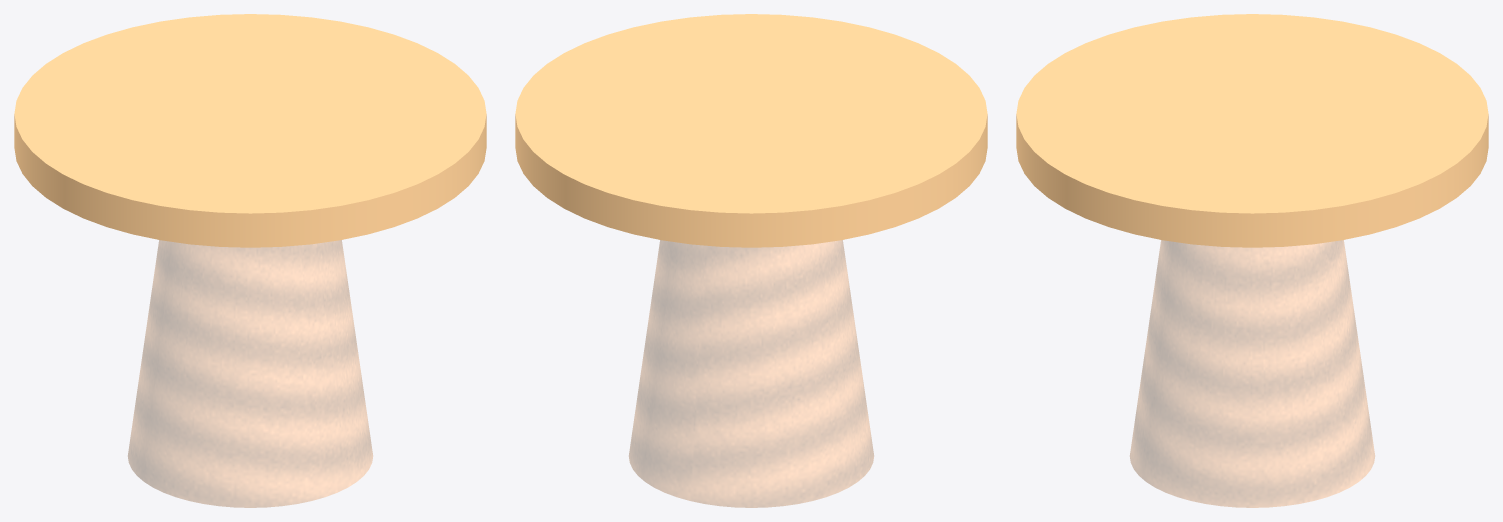
The model's file is ref06_25.glb.
3 views of the same model, side by side, from view 1: azimuth 30°, elevation 25°; view 2: azimuth 150°, elevation 25°; view 3: azimuth 270°, elevation 25° (orthographic).
Visible parts, largest first — view 1: ref06_25; view 2: ref06_25; view 3: ref06_25.
Boxes of the visible parts, x1,y1,x2,y2 form: ref06_25: (14,14,486,507); ref06_25: (515,14,987,507); ref06_25: (1016,14,1488,507).
Size of the model in its own units: 0.5 by 0.4 by 0.5.
Materials: 2 (1 with a texture image).
